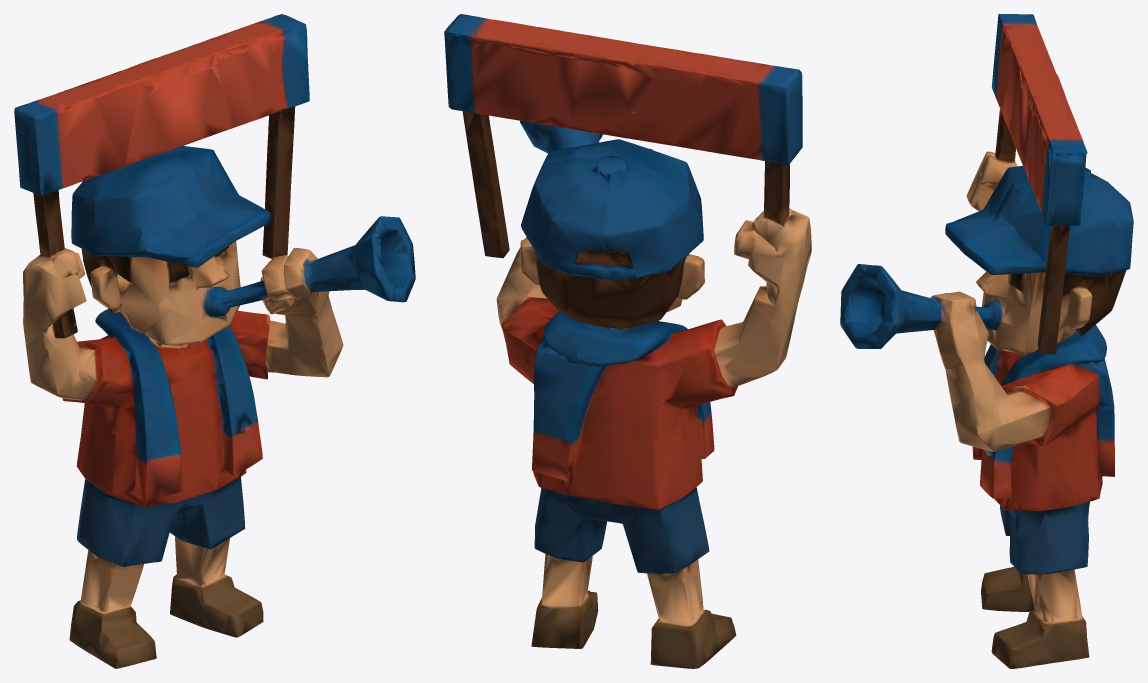
File: kibic.glb
3 renders of one model, left to right at view 1: azimuth 30°, elevation 25°; view 2: azimuth 150°, elevation 25°; view 3: azimuth 270°, elevation 25°, orthographic. The views are drawn at different scales.
Visible parts, largest first — view 1: tripo_node_c69f82b7-1bf3-4f7a-9b74-6e31bb699353; view 2: tripo_node_c69f82b7-1bf3-4f7a-9b74-6e31bb699353; view 3: tripo_node_c69f82b7-1bf3-4f7a-9b74-6e31bb699353.
Part boxes in pixels (<box>): tripo_node_c69f82b7-1bf3-4f7a-9b74-6e31bb699353: <box>14,14,415,668</box>; tripo_node_c69f82b7-1bf3-4f7a-9b74-6e31bb699353: <box>444,14,811,668</box>; tripo_node_c69f82b7-1bf3-4f7a-9b74-6e31bb699353: <box>840,14,1133,668</box>.
Bounding box in the file's own units: 0.5958 × 0.9794 × 0.4748.
1 material, 1 textured.
